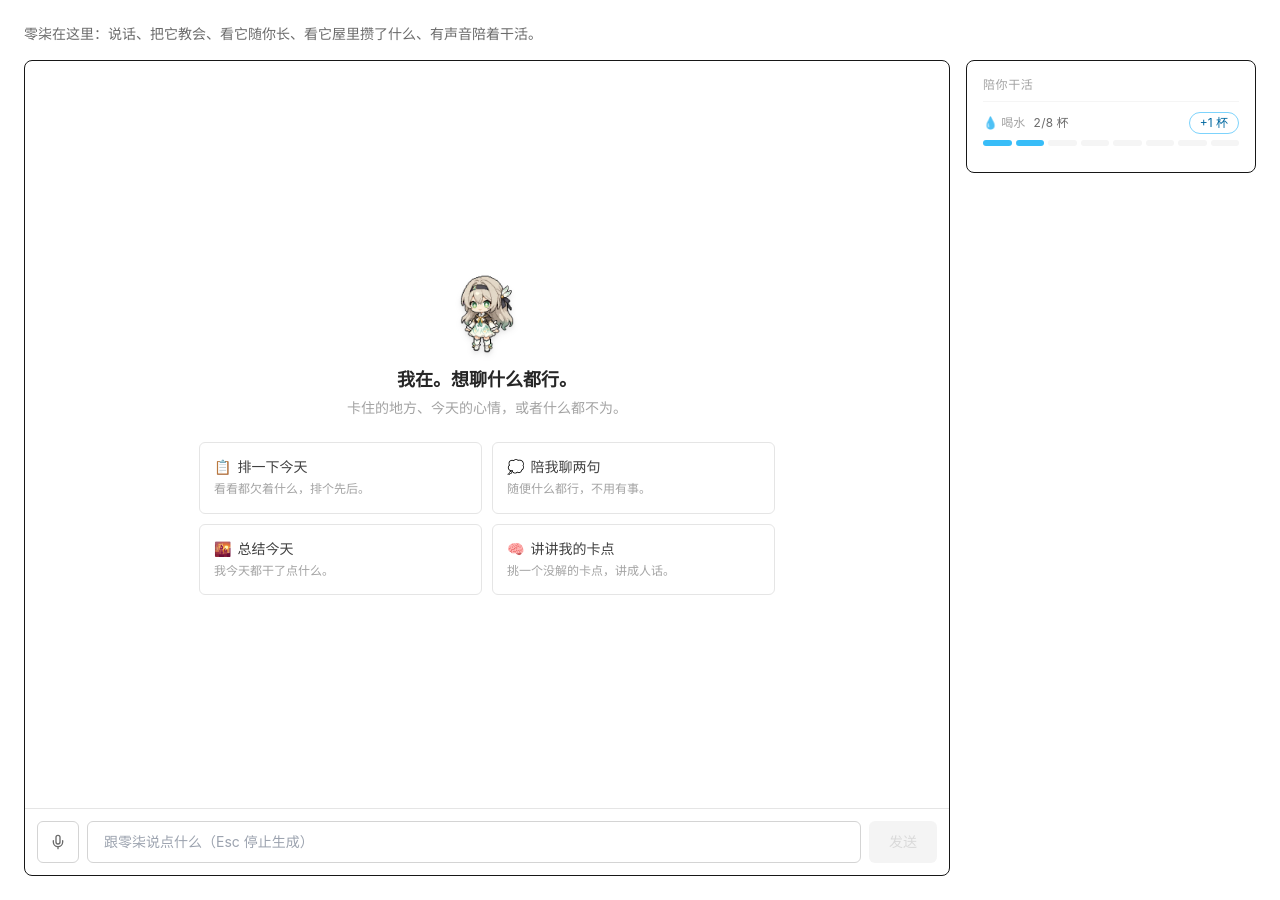
Test: CompanionPage › 陪你干活：记一杯水直接走插件命令，进度和零柒的话当场更新
Click the button titled "记一杯水": [1214, 123] box [1189,112,1239,134]
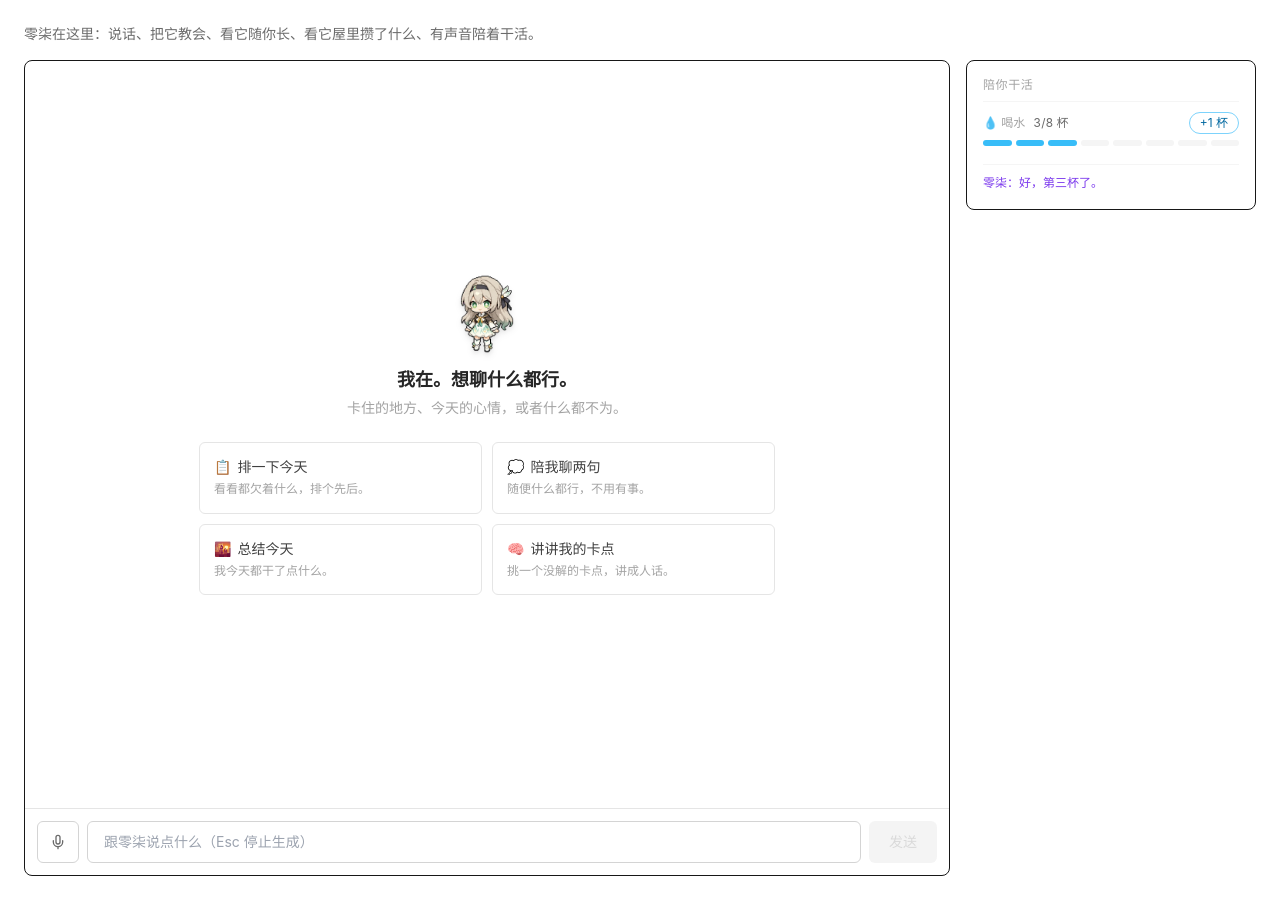
Expected: the text "3/8 杯" is shown, [1033,115,1068,131]
Expected: the text "零柒：好，第三杯了。" is shown, [983,164,1239,192]
